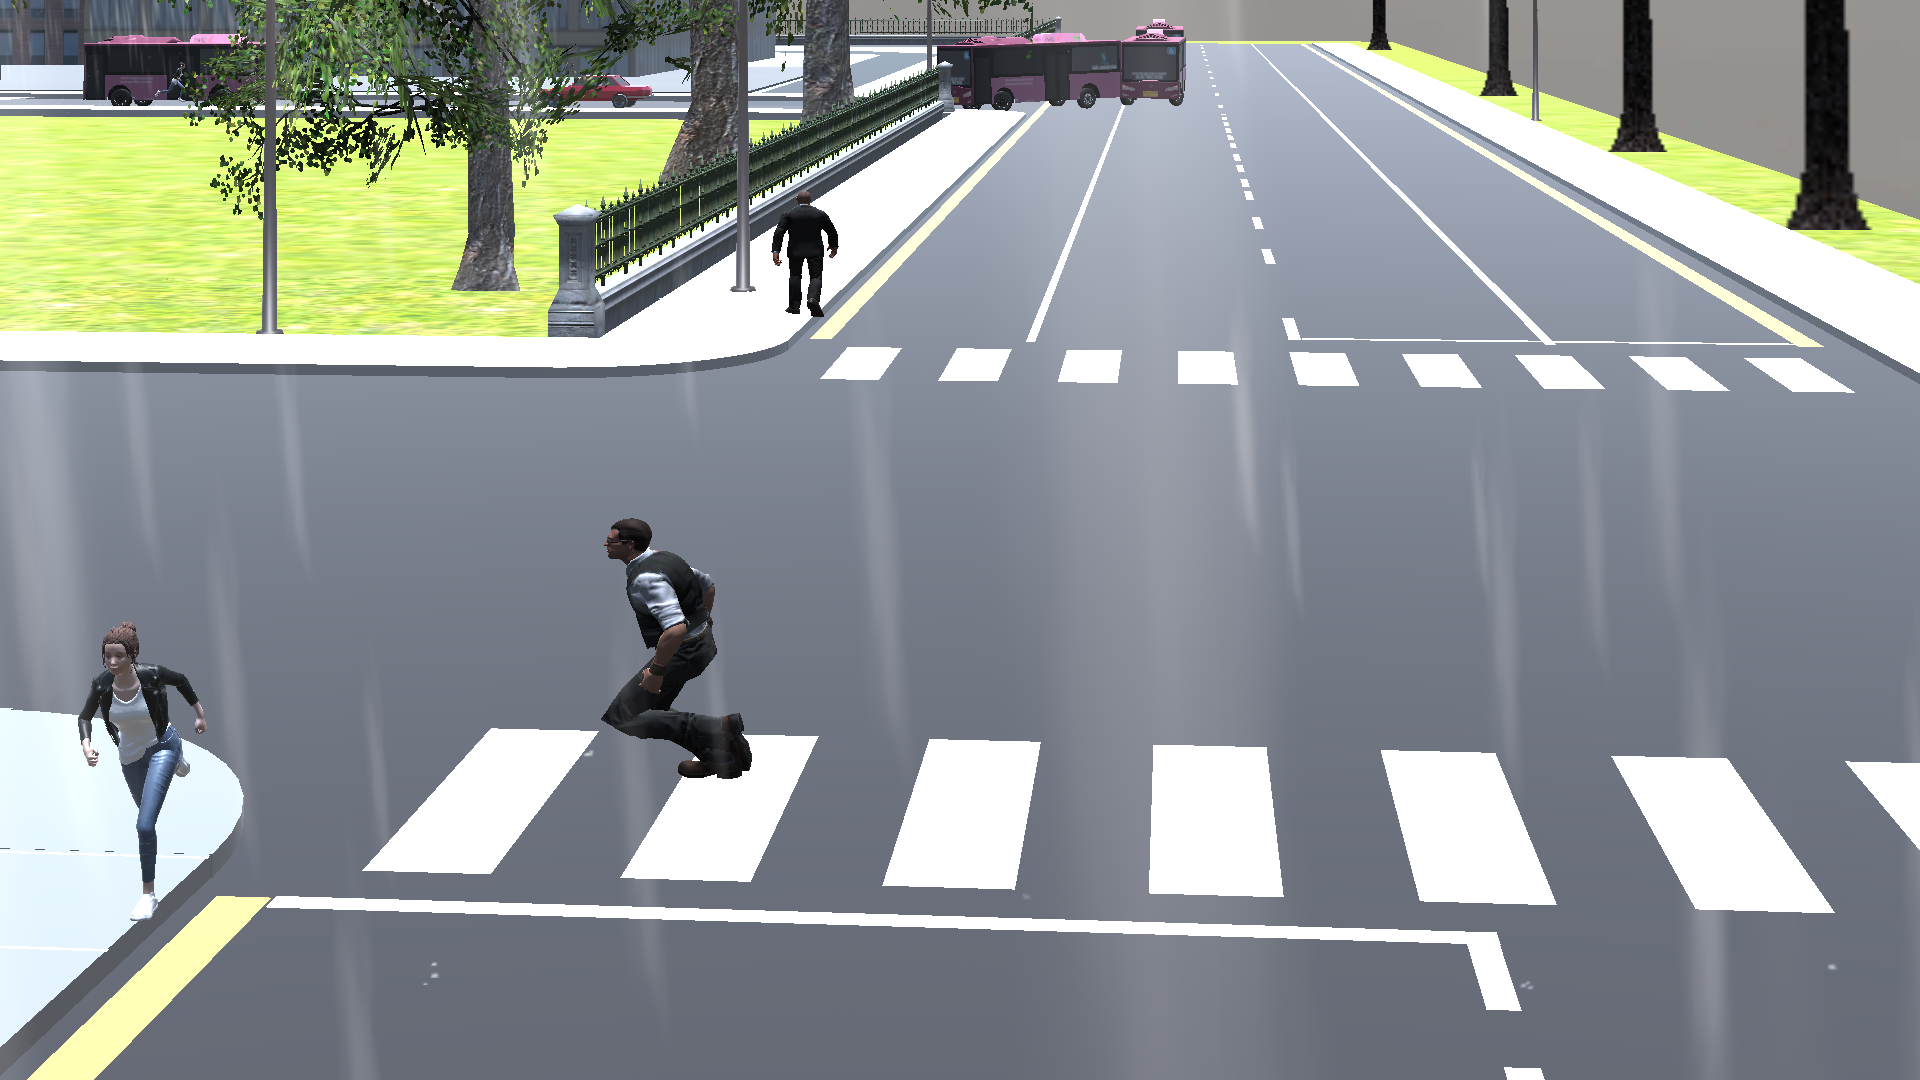pedestrian: (581, 498, 784, 805), (41, 606, 230, 925), (763, 187, 846, 332)
